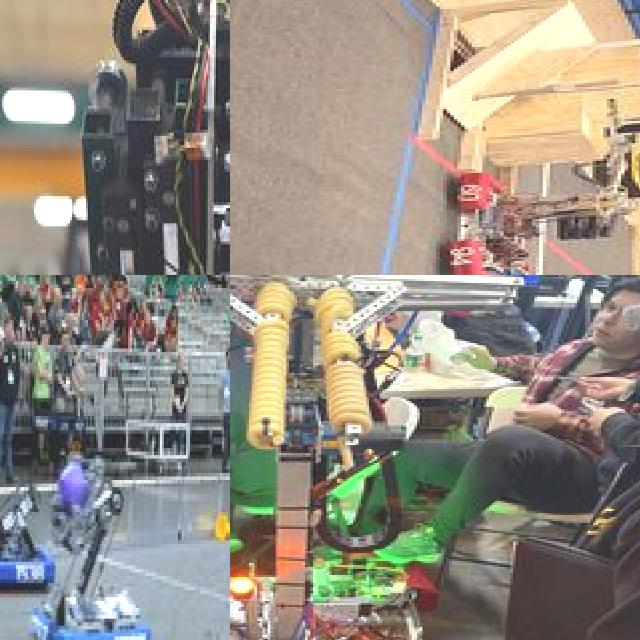FRC-Robots: (230, 275, 543, 640), (93, 0, 230, 275), (391, 153, 584, 275), (47, 461, 148, 640), (0, 474, 54, 592)
